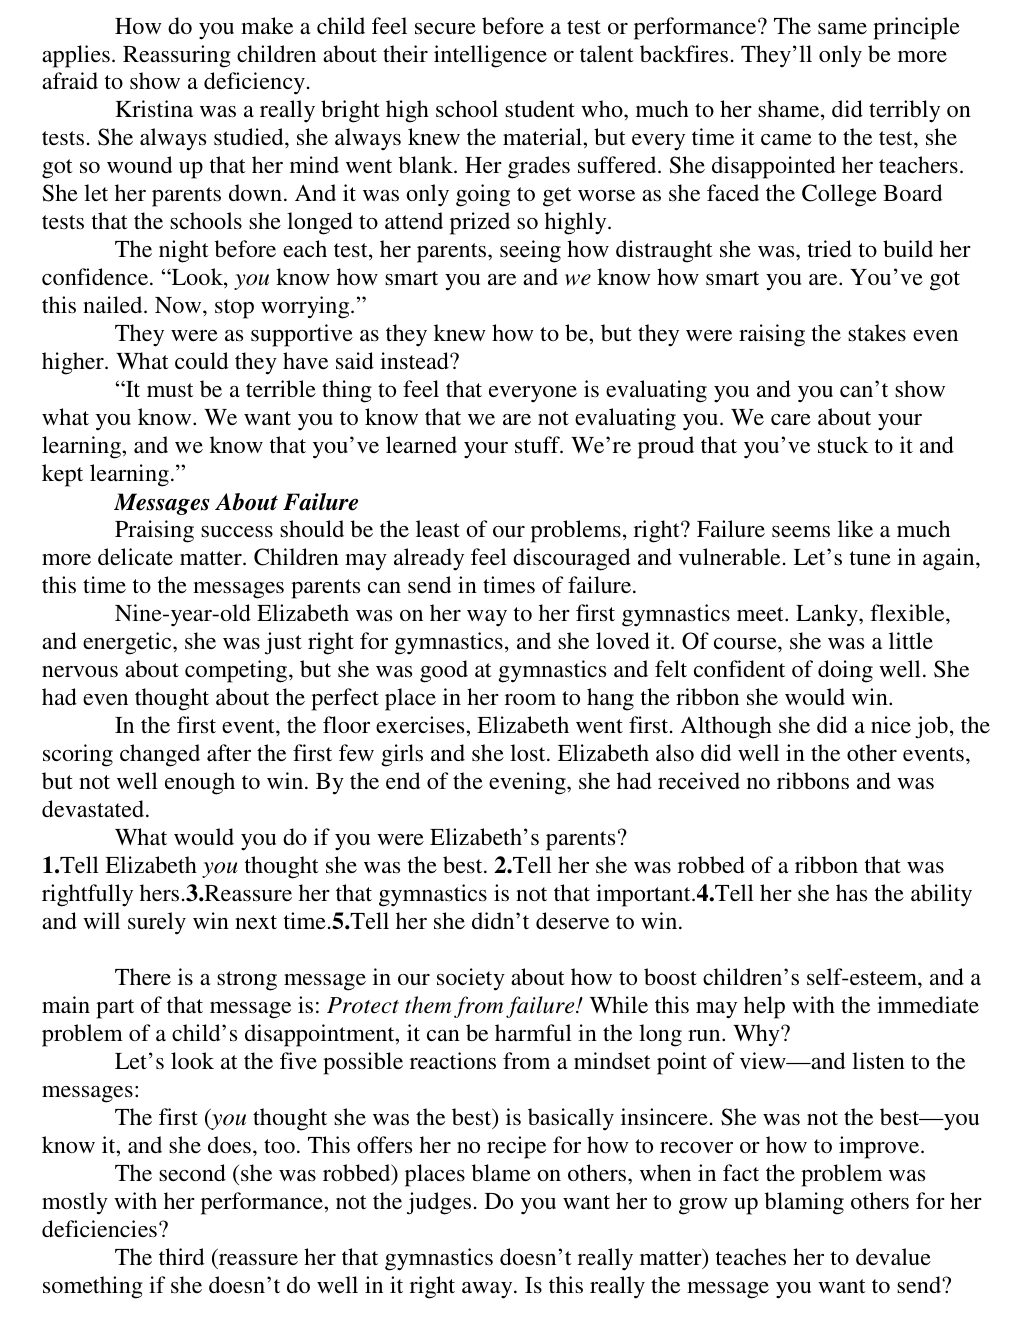latin: (33, 957, 986, 1302), (37, 232, 986, 485), (38, 14, 975, 235), (38, 512, 977, 709), (33, 819, 975, 936), (37, 710, 991, 819), (113, 487, 360, 510)
